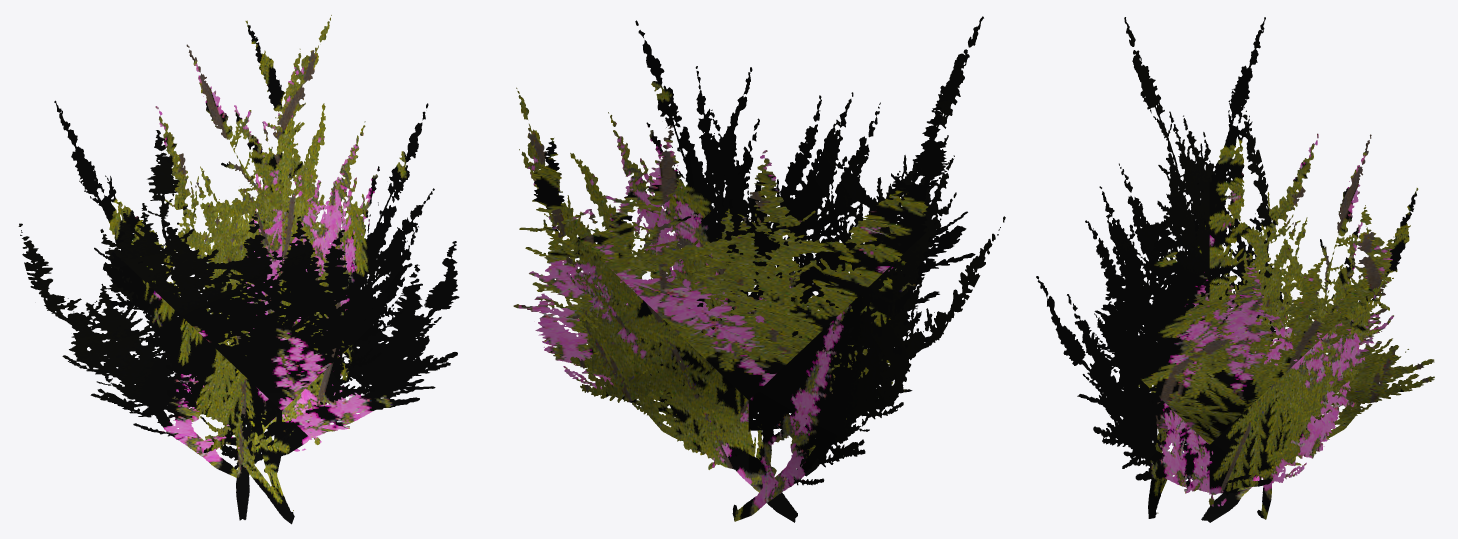
The model's file is Heather_01_LOD0.fbx.
3 views of the same model, side by side, from view 1: azimuth 30°, elevation 25°; view 2: azimuth 150°, elevation 25°; view 3: azimuth 270°, elevation 25° (orthographic). The views are drawn at different scales.
Parts seen in each view (by area): view 1: heather_01_LOD0; view 2: heather_01_LOD0; view 3: heather_01_LOD0.
Part boxes in pixels (bbox=[...]): heather_01_LOD0: bbox=[18, 15, 459, 524]; heather_01_LOD0: bbox=[513, 16, 1005, 522]; heather_01_LOD0: bbox=[1036, 17, 1434, 522].
Size of the model in its own units: 100 by 113 by 92.66.
